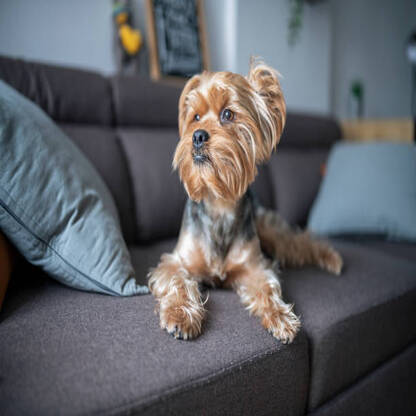yorkshire: (145, 58, 346, 351)
